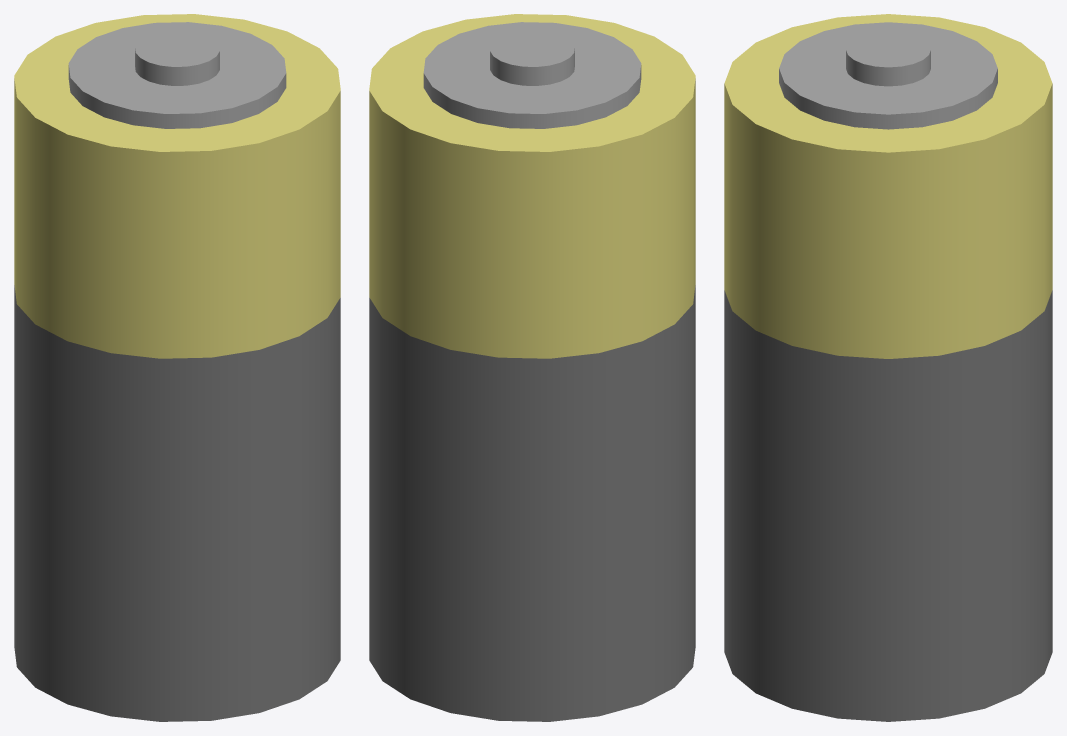
Rendered from Battery.fbx.
3 renders of one model, left to right at view 1: azimuth 30°, elevation 25°; view 2: azimuth 150°, elevation 25°; view 3: azimuth 270°, elevation 25°, orthographic.
Visible parts, largest first — view 1: Battery; view 2: Battery; view 3: Battery.
Boxes of the visible parts, bbox=[...] form: Battery: bbox=[14, 14, 340, 721]; Battery: bbox=[369, 14, 695, 721]; Battery: bbox=[724, 14, 1052, 721].
Size of the model in its own units: 1.39 by 2.83 by 1.39.
